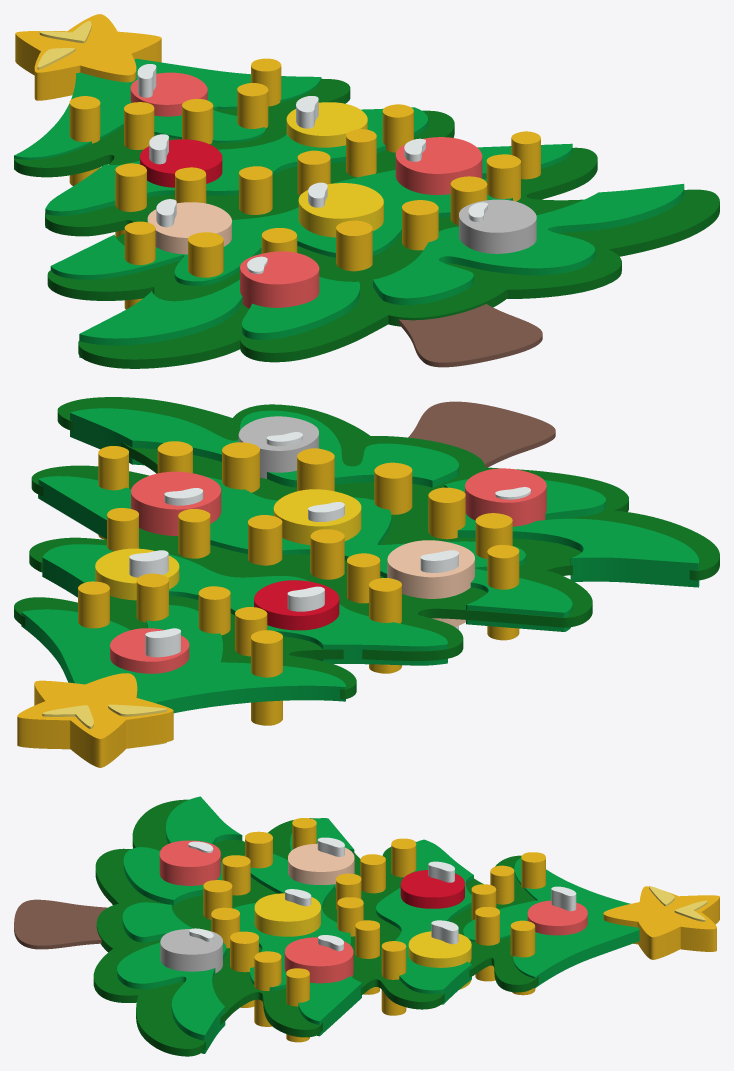
File: emoji_u1f384.glb
The picture shows the model from 3 angles, top to bottom: view 1: azimuth 30°, elevation 25°; view 2: azimuth 150°, elevation 25°; view 3: azimuth 270°, elevation 25°; orthographic projection. The views are drawn at different scales.
Parts seen in each view (by area): view 1: emoji_u1f384; view 2: emoji_u1f384; view 3: emoji_u1f384.
Part boxes in pixels (x1=…): emoji_u1f384: x1=14, y1=14, x2=719, y2=368; emoji_u1f384: x1=14, y1=397, x2=719, y2=767; emoji_u1f384: x1=14, y1=796, x2=719, y2=1056.
Bounding box in the file's own units: 0.0283 × 0.0034 × 0.0339.
